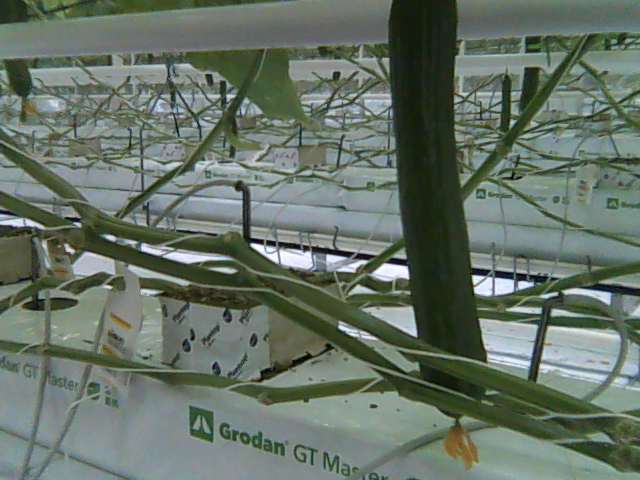concombre: (385, 1, 492, 468)
